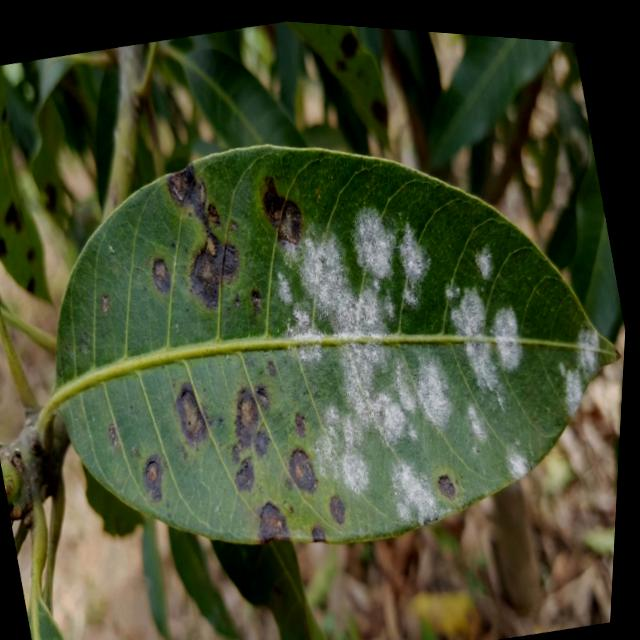Anthracnose: (258, 171, 302, 239), (201, 218, 244, 282), (233, 388, 267, 451), (189, 259, 224, 311), (287, 449, 321, 497), (175, 391, 208, 440), (167, 166, 203, 210), (227, 444, 259, 493), (147, 253, 175, 294), (260, 503, 288, 538), (141, 463, 164, 502), (325, 491, 349, 525), (312, 523, 327, 545)
Powdery Mildew: (253, 203, 477, 518), (283, 224, 455, 480), (330, 195, 433, 323), (444, 280, 502, 388), (483, 299, 529, 369), (561, 360, 590, 415), (472, 244, 500, 285)
